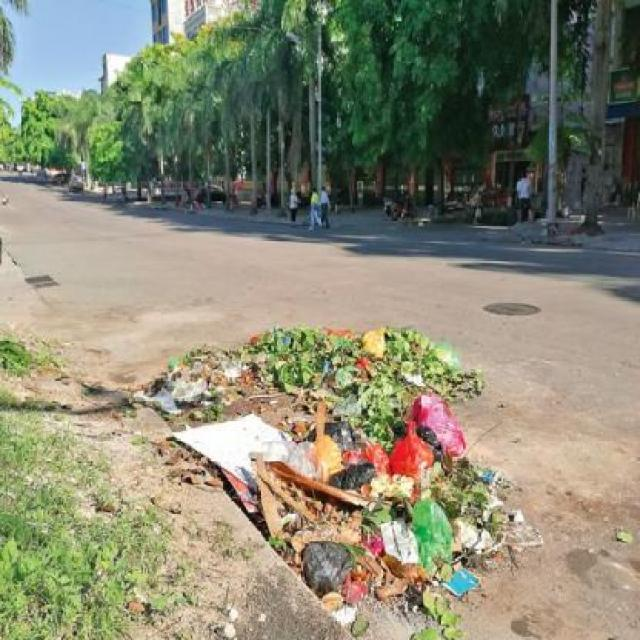garbage: (117, 320, 542, 639)
